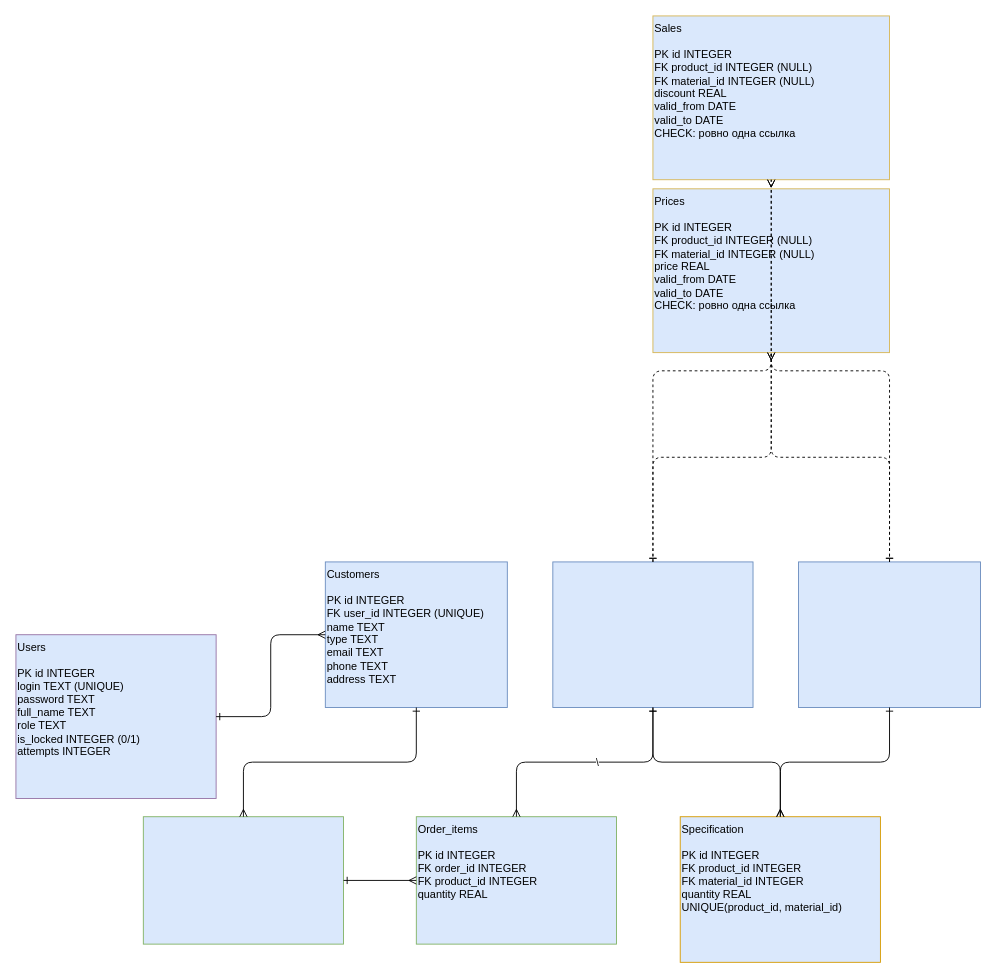
The diagram is 996 pixels wide and 978 high, and some of its shapes have lost their labels. Each missing label, with the centre of its shape:
"Materials PK id INTEGER name TEXT code TEXT (UNIQUE) unit TEXT type TEXT" belongs at (x=889, y=634).
"Orders PK id INTEGER FK customer_id INTEGER order_date DATE status TEXT" belongs at (x=243, y=880).
"Products PK id INTEGER name TEXT code TEXT (UNIQUE) unit TEXT description TEXT" belongs at (x=652, y=634).
